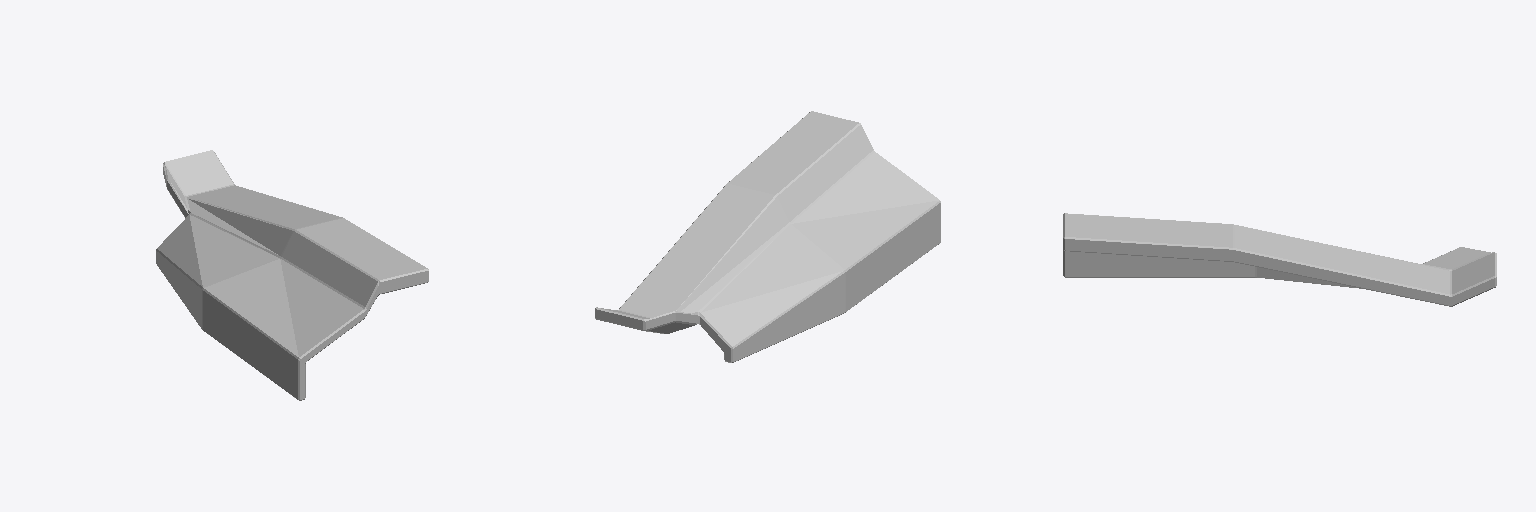
File: MeleeBackRightTop.obj
3 renders of one model, left to right at view 1: azimuth 30°, elevation 25°; view 2: azimuth 150°, elevation 25°; view 3: azimuth 270°, elevation 25°, orthographic.
Parts seen in each view (by area): view 1: Body Melee_unit_OG polySurface11 polySurface1; view 2: Body Melee_unit_OG polySurface11 polySurface1; view 3: Body Melee_unit_OG polySurface11 polySurface1.
Boxes of the visible parts, x1=… form: Body Melee_unit_OG polySurface11 polySurface1: x1=156, y1=150, x2=428, y2=400; Body Melee_unit_OG polySurface11 polySurface1: x1=595, y1=111, x2=940, y2=362; Body Melee_unit_OG polySurface11 polySurface1: x1=1063, y1=213, x2=1496, y2=306.
Size of the model in its own units: 2.44 by 1.8 by 6.99.